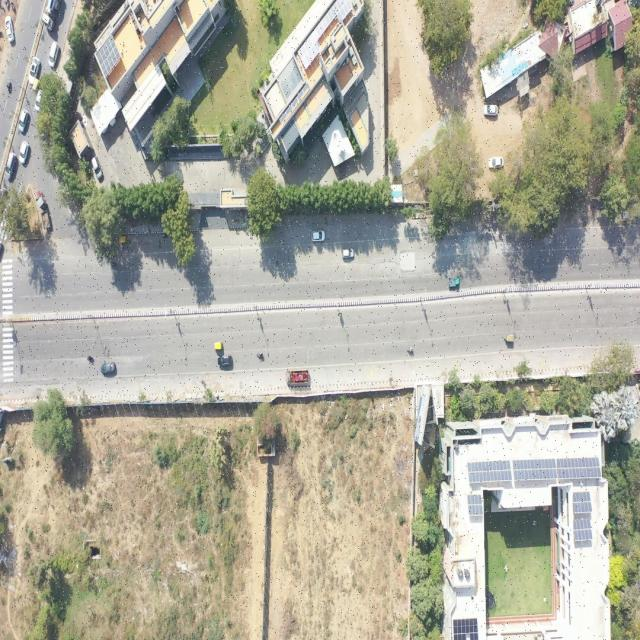3W: (117, 234, 131, 248), (211, 338, 224, 353), (503, 332, 515, 348), (447, 276, 460, 289), (34, 79, 38, 92)
Cars: (47, 38, 62, 73), (90, 155, 106, 185), (4, 15, 17, 44), (310, 225, 327, 247), (17, 108, 30, 136), (339, 245, 359, 262), (28, 54, 38, 88), (482, 103, 499, 122), (6, 153, 16, 185), (486, 155, 505, 170), (99, 361, 118, 376), (216, 355, 234, 370), (619, 209, 635, 223), (19, 141, 27, 167), (35, 92, 44, 112)
M2W: (6, 75, 15, 98), (85, 353, 95, 364), (256, 351, 265, 361), (10, 0, 16, 14), (406, 346, 414, 355), (109, 259, 117, 268), (162, 233, 171, 240), (5, 0, 9, 14)
Truck: (34, 188, 54, 230), (283, 365, 313, 393), (42, 0, 64, 38)
